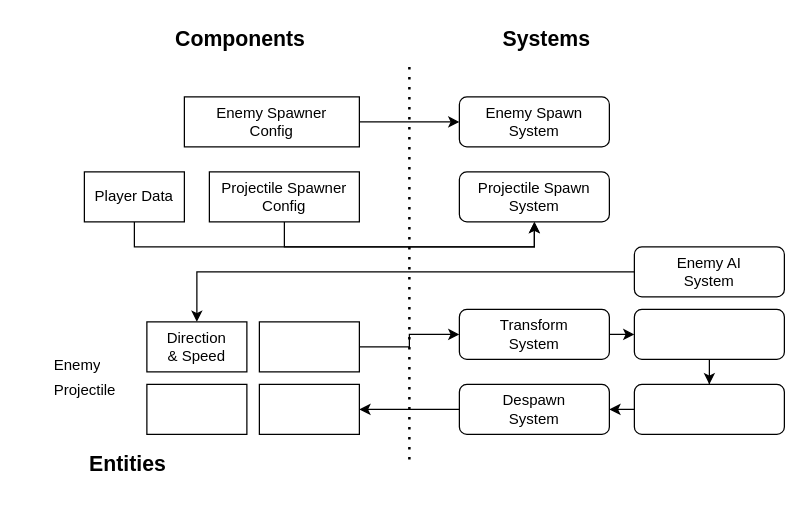
The diagram is 806 pixels wide and 505 high, and some of its shapes have lost their labels. The centre of each missing label's shape, as x and y in pixels:
"Hash Grid System" goes at pixel 708 333.
"Lifetime" goes at pixel 308 408.
"Projectile Collision System" goes at pixel 708 408.
"Transform" goes at pixel 308 346.
"Type Tag" goes at pixel 196 408.
